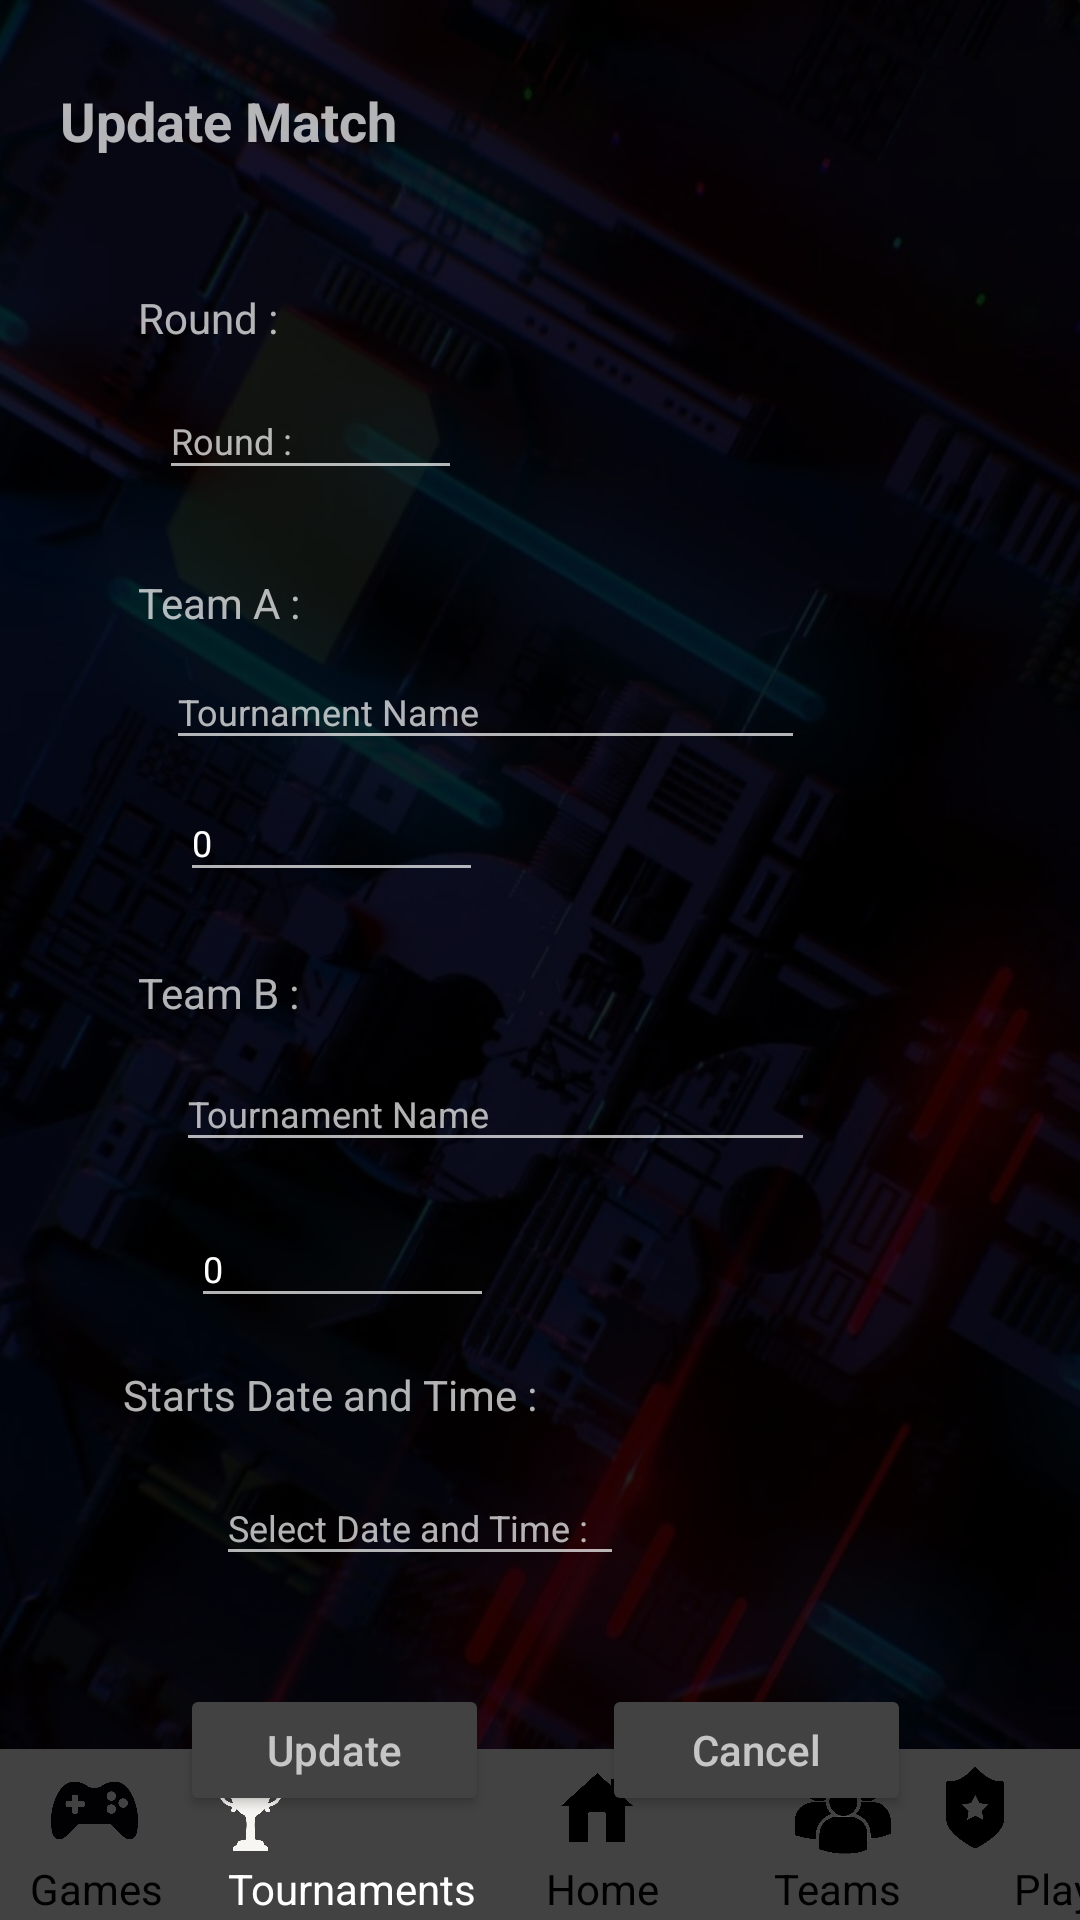

Screen size 1080px x 1920px. Icon name, then its box in pixels as (x1, y1, x2, y2):
console: (51, 1782, 138, 1839)
cupwhite: (220, 1798, 281, 1851)
rank: (946, 1767, 1004, 1848)
